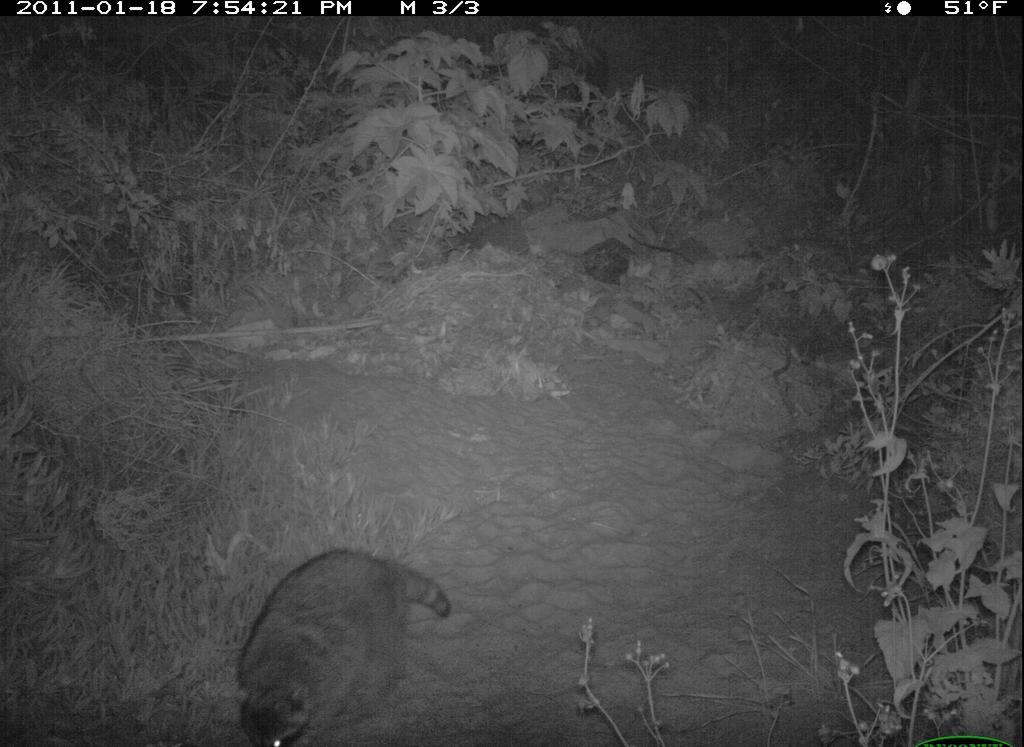raccoon: (227, 532, 466, 745)
